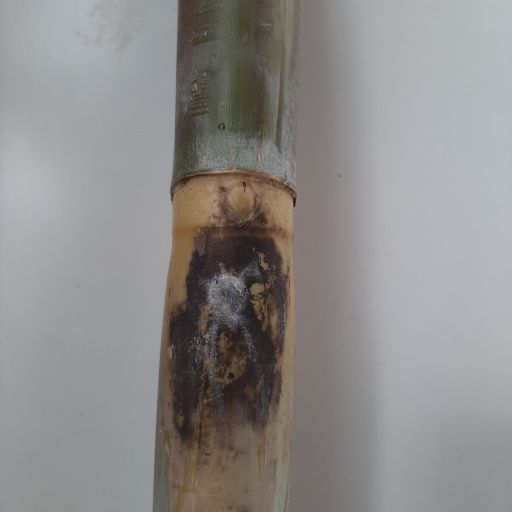Bud: (219, 183, 256, 228)
